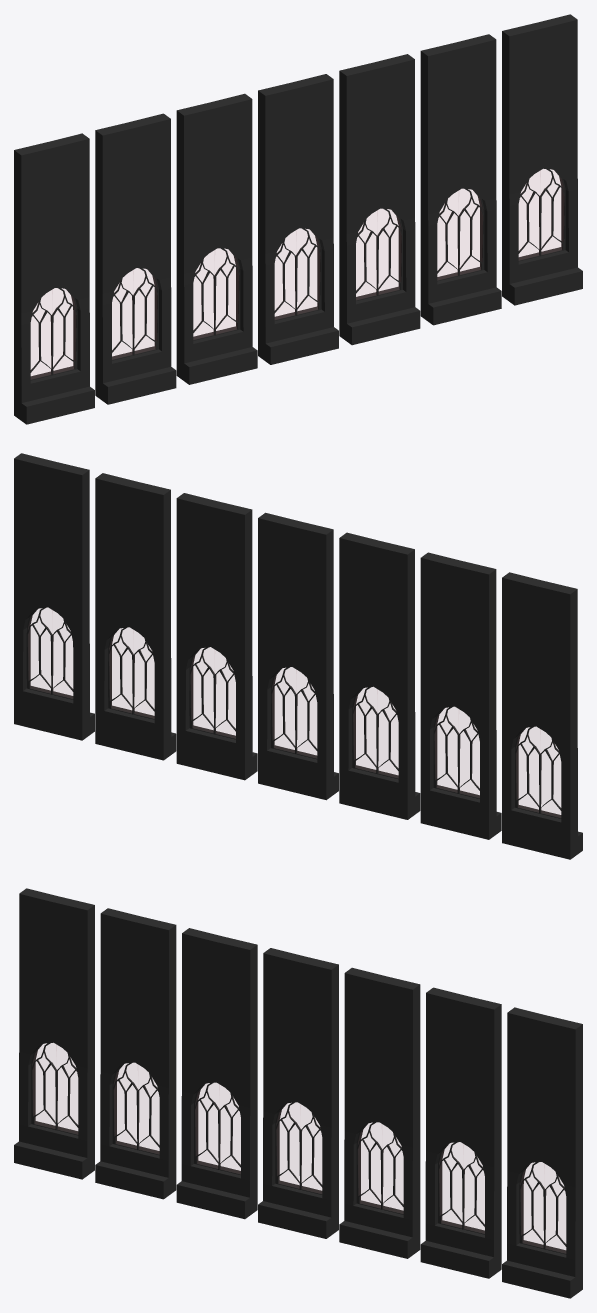
The model's file is map2 wall2 (2).fbx.
3 renders of one model, top to bottom at view 1: azimuth 30°, elevation 25°; view 2: azimuth 150°, elevation 25°; view 3: azimuth 330°, elevation 25°, orthographic.
Visible parts, largest first — view 1: window; view 2: window; view 3: window.
Part boxes in pixels (bbox=[...]): window: bbox=[14, 14, 582, 424]; window: bbox=[14, 453, 582, 859]; window: bbox=[14, 888, 582, 1298].
Bounding box in the file's own units: 5890 × 2685 × 230.
